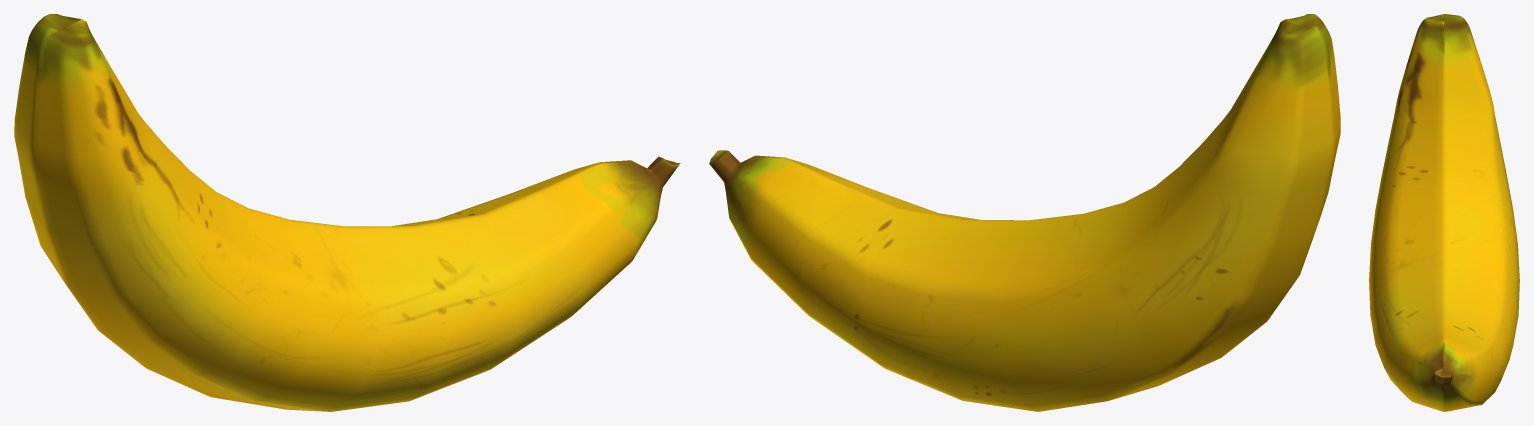
The model's file is Platano.fbx.
3 renders of one model, left to right at view 1: azimuth 30°, elevation 25°; view 2: azimuth 150°, elevation 25°; view 3: azimuth 270°, elevation 25°, orthographic. The views are drawn at different scales.
Parts seen in each view (by area): view 1: platano; view 2: platano; view 3: platano.
Part boxes in pixels (left/top/right/bottom): platano: left=14, top=14, right=680, bottom=411; platano: left=709, top=14, right=1340, bottom=411; platano: left=1369, top=14, right=1519, bottom=411.
Size of the model in its own units: 4.44 by 2.96 by 1.46.
